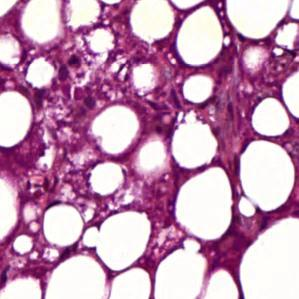steatosis: (87, 102, 144, 157), (177, 11, 227, 72), (43, 196, 87, 248), (251, 97, 289, 138)
